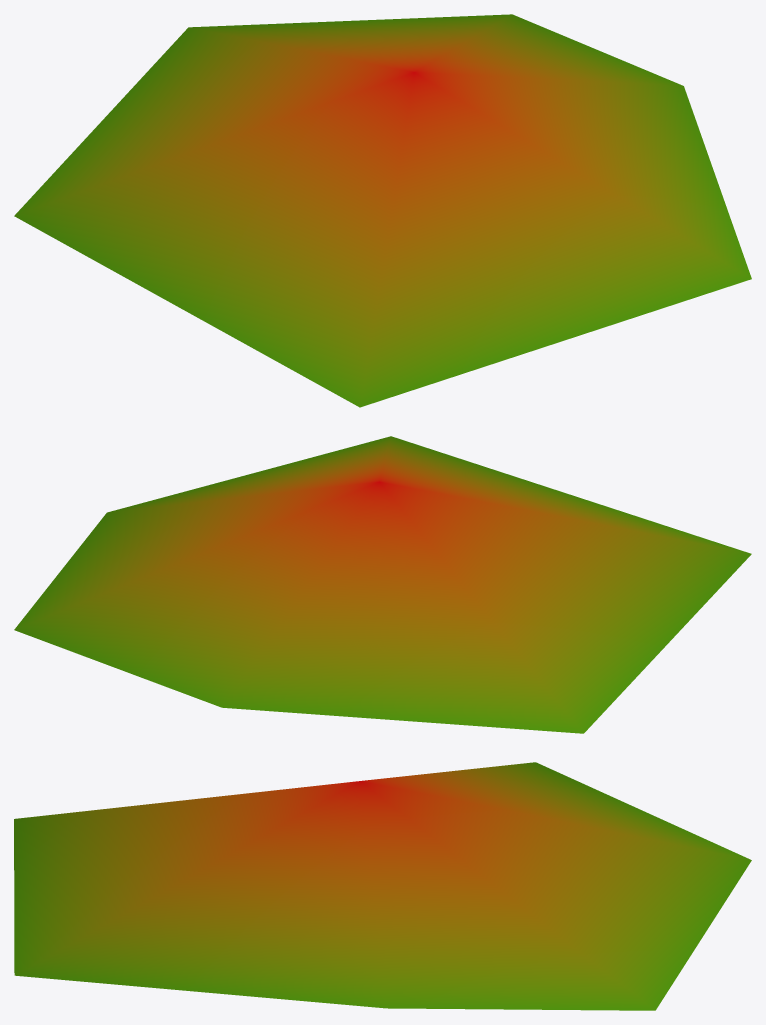
The model's file is Var7_LOD3.fbx.
3 views of the same model, one above another, from view 1: azimuth 30°, elevation 25°; view 2: azimuth 150°, elevation 25°; view 3: azimuth 270°, elevation 25° (orthographic). The views are drawn at different scales.
Visible parts, largest first — view 1: _f27d_Var7_LOD3; view 2: _f27d_Var7_LOD3; view 3: _f27d_Var7_LOD3.
Part boxes in pixels (x1,y1,x2,y2): _f27d_Var7_LOD3: [14, 14, 751, 407]; _f27d_Var7_LOD3: [14, 436, 751, 733]; _f27d_Var7_LOD3: [14, 762, 751, 1010].
Bounding box in the file's own units: 47.43 × 11.49 × 51.71.
